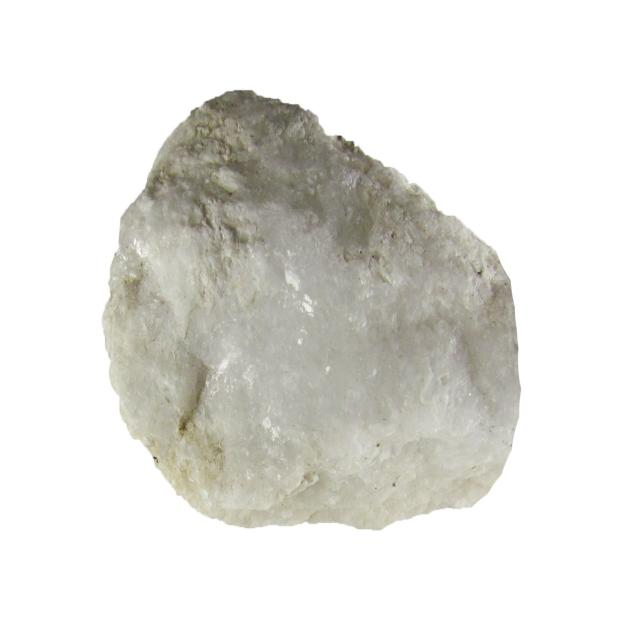Sedimentary: (96, 80, 524, 526)
